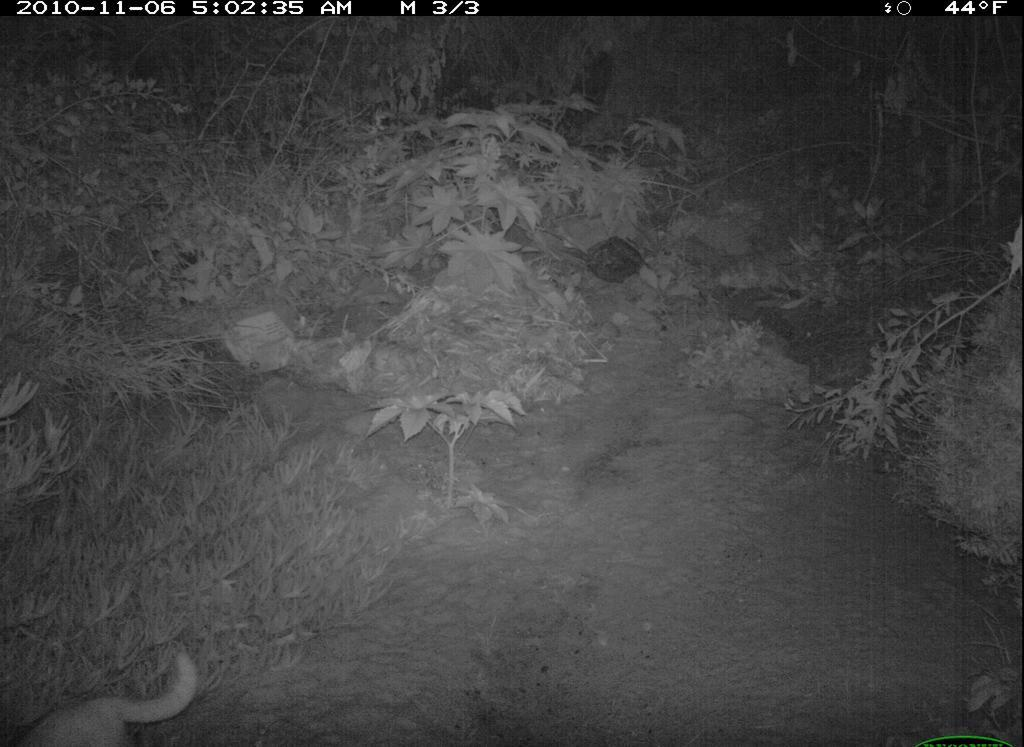cat: (7, 656, 204, 747)
